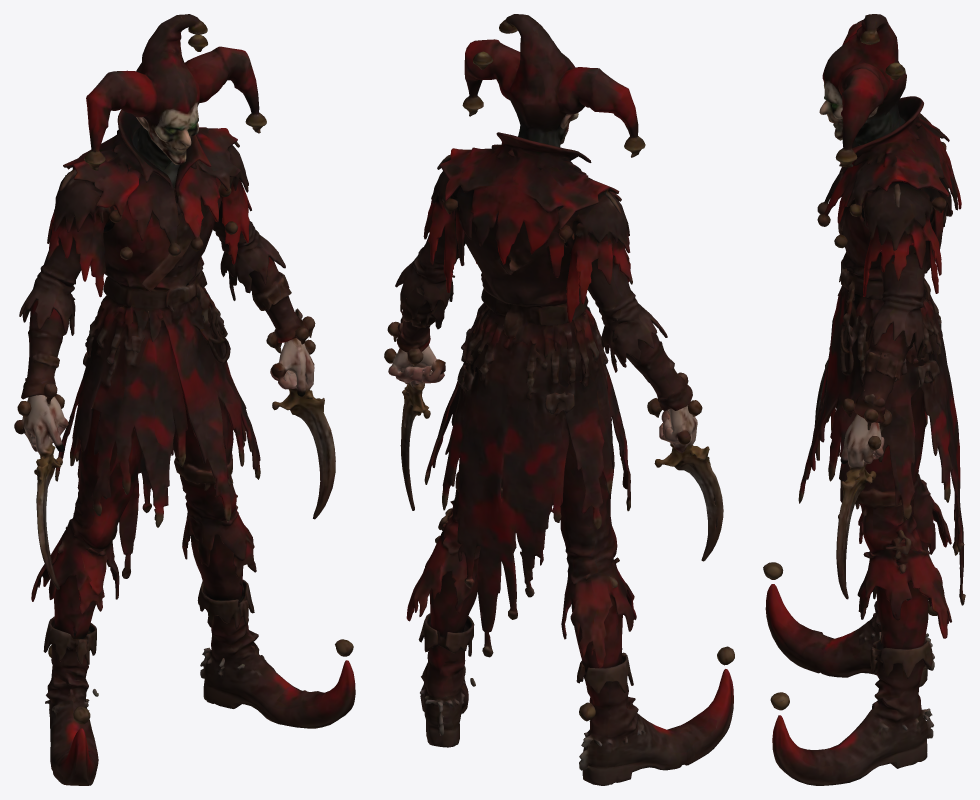
Rendered from шут.glb.
3 renders of one model, left to right at view 1: azimuth 30°, elevation 25°; view 2: azimuth 150°, elevation 25°; view 3: azimuth 270°, elevation 25°, orthographic. The views are drawn at different scales.
Parts seen in each view (by area): view 1: geometry_0; view 2: geometry_0; view 3: geometry_0.
Part boxes in pixels (x1=…): geometry_0: x1=14, y1=14, x2=355, y2=785; geometry_0: x1=384, y1=14, x2=734, y2=785; geometry_0: x1=763, y1=14, x2=965, y2=785.
Bounding box in the file's own units: 0.45 × 1 × 0.2574.
Materials: 1 (1 with a texture image).
